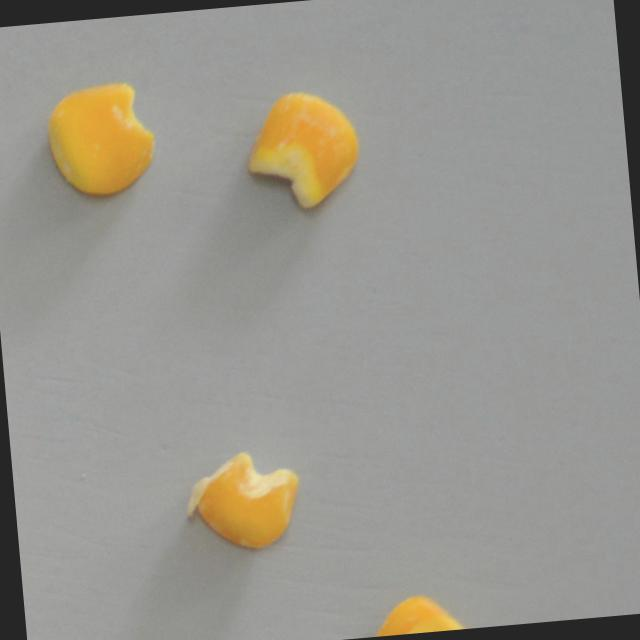no_canjicado: (45, 79, 159, 201), (364, 589, 470, 637)
pelicula: (240, 85, 362, 214), (187, 446, 303, 554)
